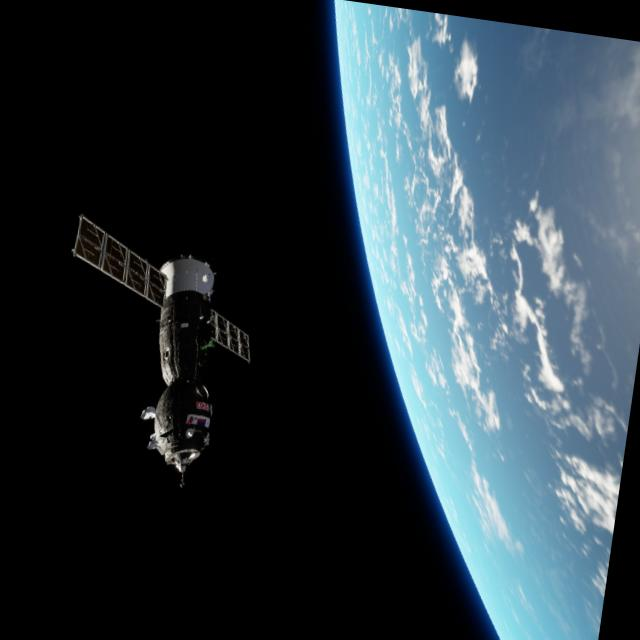Satellites revolving around earth: (39, 210, 270, 498)
